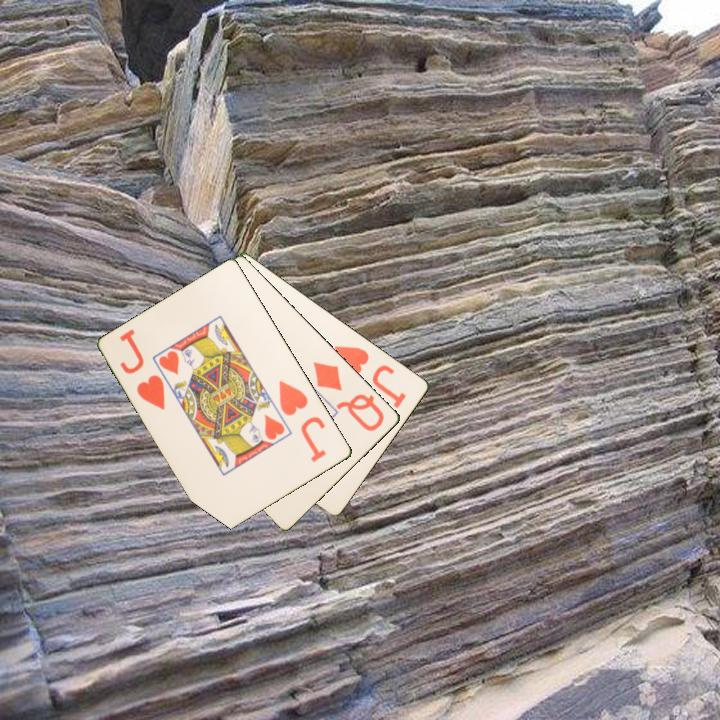Jh: (331, 342, 409, 411), (275, 376, 330, 465), (133, 371, 169, 413)
Qd: (310, 358, 388, 434)
